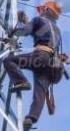boots: (8, 81, 30, 92), (45, 91, 54, 114)
hard-hat: (40, 0, 62, 20)
ppe-suit: (0, 0, 69, 131)
